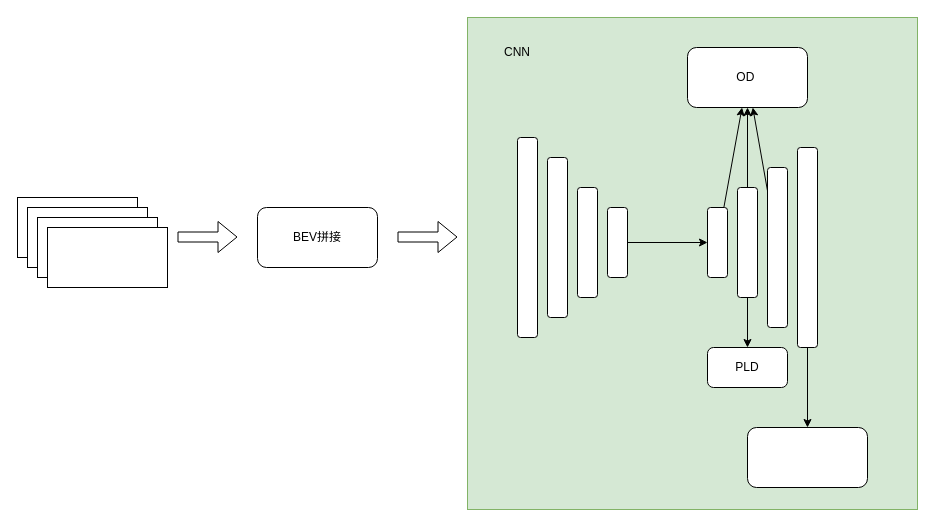
The diagram is 935 pixels wide and 527 high, and some of its shapes have lost their labels. Each missing label, with the centre of its shape:
"FISH EYE" belongs at pixel 107 257.
"FreeSpace" belongs at pixel 807 457.
